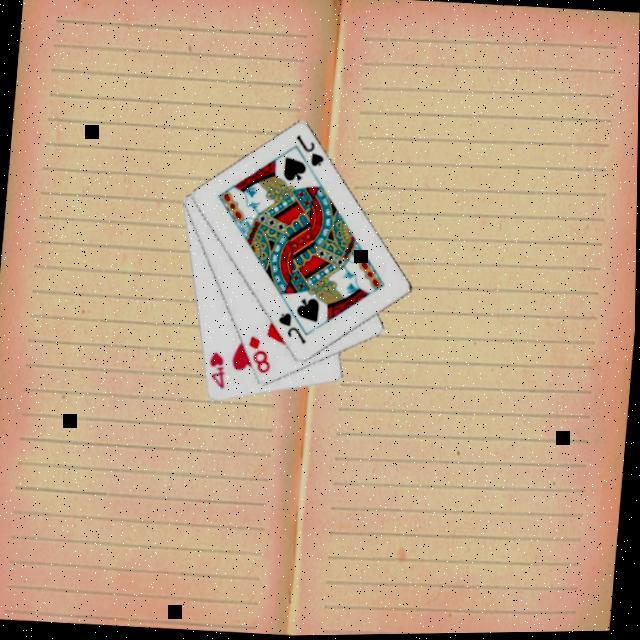4H: (202, 348, 228, 392)
8D: (241, 331, 275, 376)
JS: (272, 309, 310, 347), (288, 132, 326, 170)
